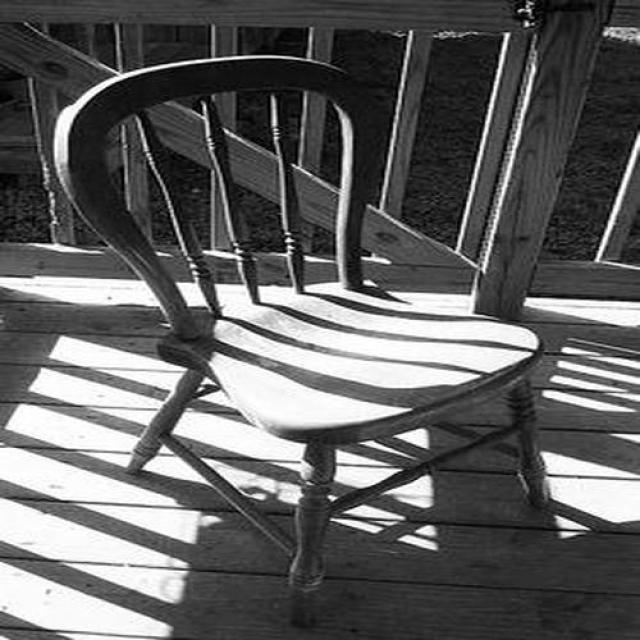chair: (51, 55, 549, 631)
